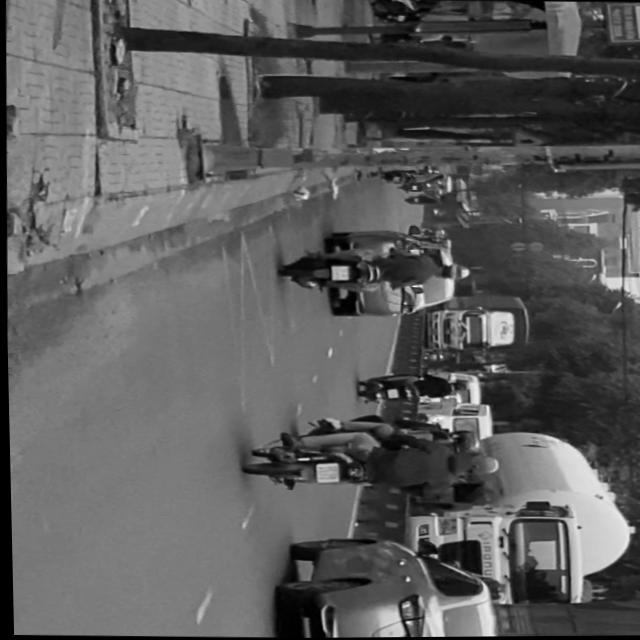helmet: (454, 453, 498, 478)
licenseplate: (241, 426, 501, 498)
nohelmet: (313, 463, 335, 482)
